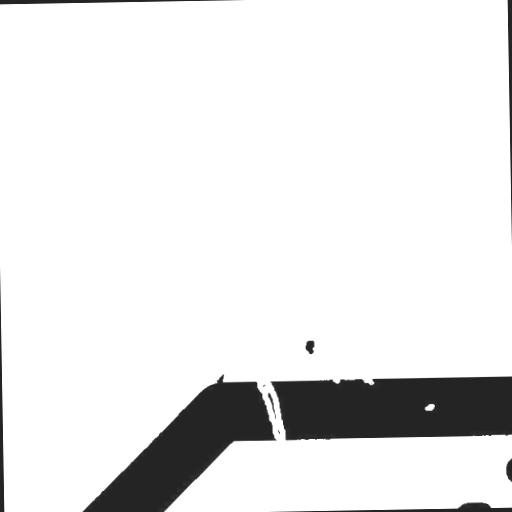copper: (297, 332, 322, 362)
mousebite: (354, 370, 381, 392), (324, 372, 348, 390)
open: (248, 370, 292, 452)
pin-hole: (417, 396, 442, 418)
spur: (208, 366, 232, 391)
